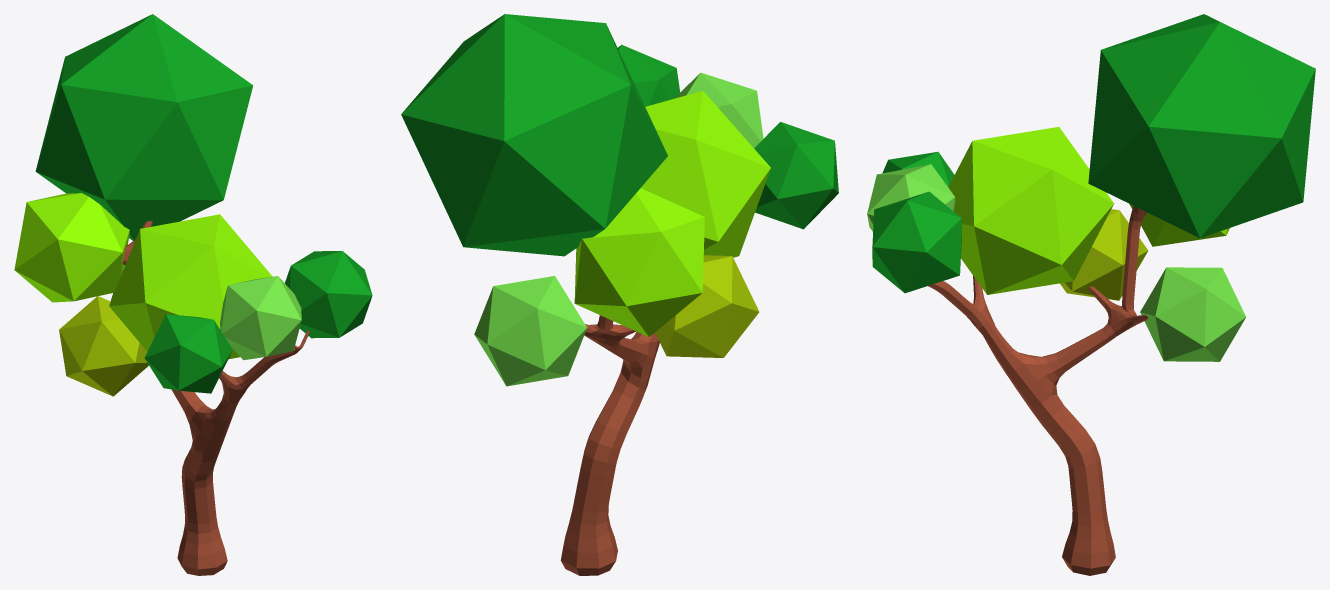
Rendered from asset.glb.
3 renders of one model, left to right at view 1: azimuth 30°, elevation 25°; view 2: azimuth 150°, elevation 25°; view 3: azimuth 270°, elevation 25°, orthographic. The views are drawn at different scales.
Visible parts, largest first — view 1: Icosphere_3, Icosphere.007_10, Icosphere.003_6, Cube_0, Icosphere.002_5, Icosphere.005_8, Icosphere.006_9, Icosphere.004_7; view 2: Icosphere_3, Icosphere.003_6, Icosphere.007_10, Cube_0, Icosphere.001_4, Icosphere.004_7, Icosphere.002_5, Icosphere.006_9, Icosphere.005_8; view 3: Icosphere_3, Icosphere.007_10, Cube_0, Icosphere.001_4, Icosphere.005_8, Icosphere.002_5, Icosphere.006_9, Icosphere.003_6, Icosphere.004_7.
Boxes of the visible parts, <box> form: Icosphere_3: <box>35,14,253,240</box>; Icosphere.007_10: <box>109,214,272,359</box>; Icosphere.003_6: <box>14,193,129,302</box>; Cube_0: <box>122,221,309,575</box>; Icosphere.002_5: <box>59,296,148,396</box>; Icosphere.005_8: <box>285,251,372,338</box>; Icosphere.006_9: <box>220,276,301,360</box>; Icosphere.004_7: <box>144,314,232,393</box>; Icosphere_3: <box>401,14,667,256</box>; Icosphere.003_6: <box>574,188,704,336</box>; Icosphere.007_10: <box>641,91,770,257</box>; Cube_0: <box>560,315,659,575</box>; Icosphere.001_4: <box>474,276,586,386</box>; Icosphere.004_7: <box>754,122,838,229</box>; Icosphere.002_5: <box>655,255,759,357</box>; Icosphere.006_9: <box>674,72,763,147</box>; Icosphere.005_8: <box>618,44,680,106</box>; Icosphere_3: <box>1088,14,1315,238</box>; Icosphere.007_10: <box>948,127,1114,294</box>; Cube_0: <box>928,206,1147,575</box>; Icosphere.001_4: <box>1140,267,1245,361</box>; Icosphere.005_8: <box>872,191,961,293</box>; Icosphere.002_5: <box>1060,209,1148,300</box>; Icosphere.006_9: <box>867,164,955,231</box>; Icosphere.003_6: <box>1129,204,1229,246</box>; Icosphere.004_7: <box>882,151,954,186</box>.
Bounding box in the file's own units: 67.08 × 143 × 105.
